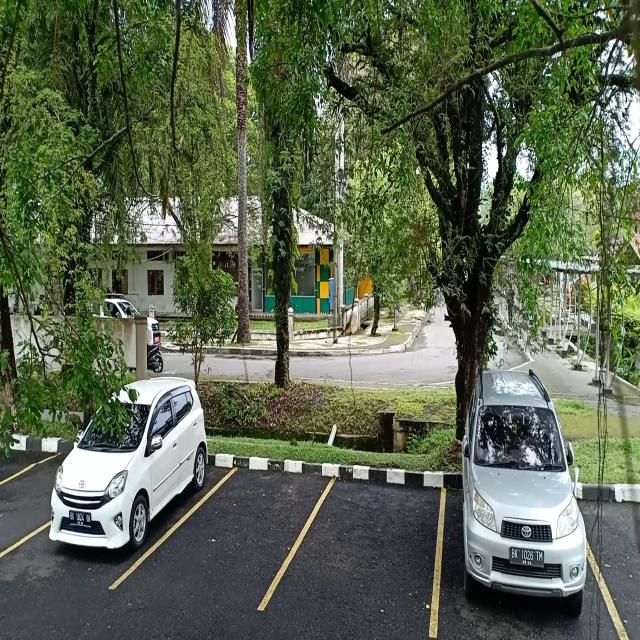empty: (285, 454, 443, 621), (179, 443, 305, 610), (0, 436, 53, 552)
occupied: (433, 466, 586, 637), (45, 426, 204, 570)
